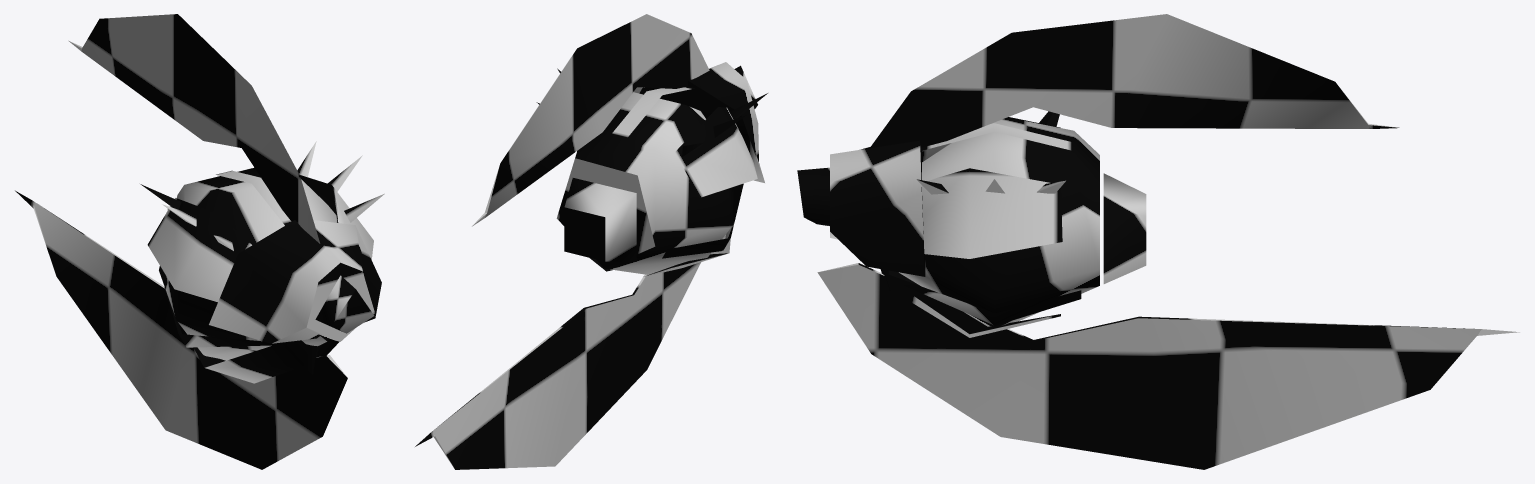
File: drone_iris_5.obj
The picture shows the model from 3 angles, left to right: view 1: azimuth 30°, elevation 25°; view 2: azimuth 150°, elevation 25°; view 3: azimuth 270°, elevation 25°; orthographic projection. The views are drawn at different scales.
Parts seen in each view (by area): view 1: main; view 2: main; view 3: main.
Boxes of the visible parts, <box> form: main: <box>15,14,384,469</box>; main: <box>415,14,767,469</box>; main: <box>797,14,1519,469</box>.
Bounding box in the file's own units: 13.36 × 27.28 × 39.45.
Materials: 1 (1 with a texture image).
